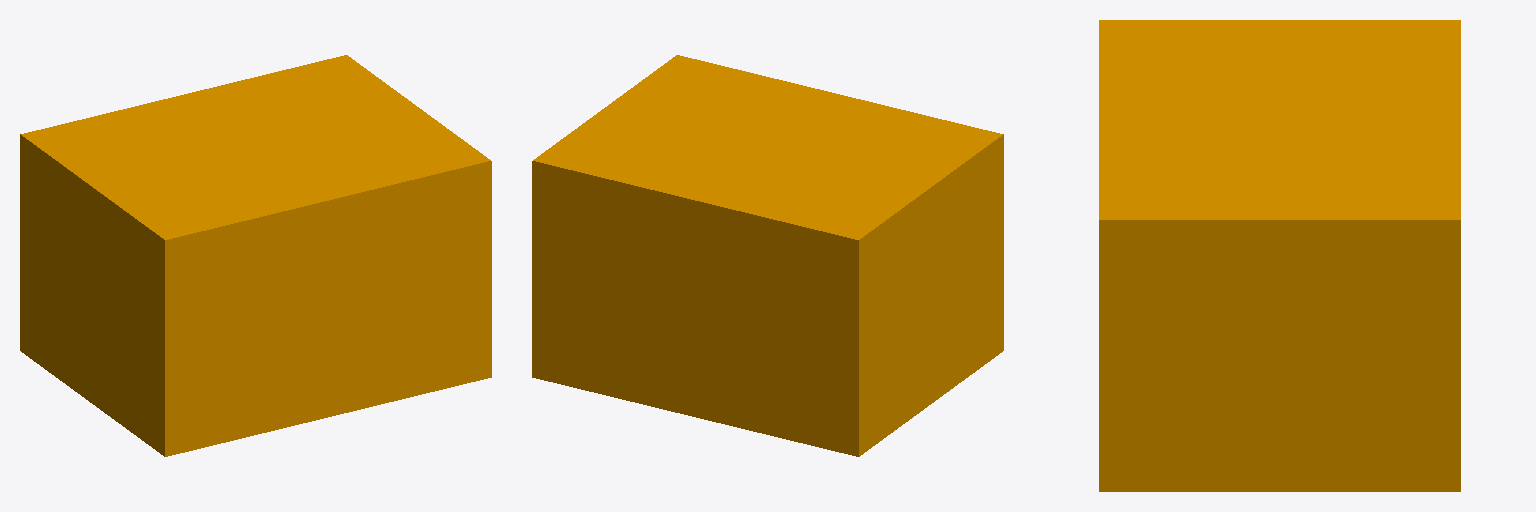
The robot description file, URDF, robot "large_cardboard_box_with_lid":
<?xml version="1.0"?>
<!--
This is a large cardboard box with a lid, i.e., box_with_lid_large at https://docs.google.com/spreadsheets/d/1c4GgigOaQ3TiYDhN7i2oLno96RojI6JiBSLweFdsCr8/edit#gid=0.
-->
<robot name="large_cardboard_box_with_lid">
  <link name="box">
    <!-- The model for a solid box of uniform density. -->
    <inertial>
      <mass value="0.45"/>
      <inertia ixx="0.0062637435" ixy="0" ixz="0" iyy="0.008846555999999998" iyz="0" izz="0.010024687499999999"/>
    </inertial>
    <visual name="box_visual">
      <geometry>
        <box size="0.41 0.315 0.2604"/>
      </geometry>
    </visual>
    <collision name="box_collision">
      <geometry>
        <box size="0.41 0.315 0.2604"/>
      </geometry>
    </collision>
  </link>
</robot>

--- What the picture shows (computed from the rendered views, not written in the file) ---
3 views of the same robot in one strip: view 1: azimuth 30°, elevation 25°; view 2: azimuth 150°, elevation 25°; view 3: azimuth 270°, elevation 25° (orthographic).
Robot: large_cardboard_box_with_lid — 1 links, 0 joints (none); root link box; default pose: all joints at 0.
Visible links, largest first — view 1: box; view 2: box; view 3: box.
Link boxes in pixels (bbox=[...]): box: bbox=[20, 55, 491, 456]; box: bbox=[532, 55, 1003, 456]; box: bbox=[1099, 20, 1460, 491].
Bounding box of the posed robot: 0.41 × 0.315 × 0.2604 m (x, y, z).
Geometry: primitives only (box / cylinder / sphere), no mesh files.
